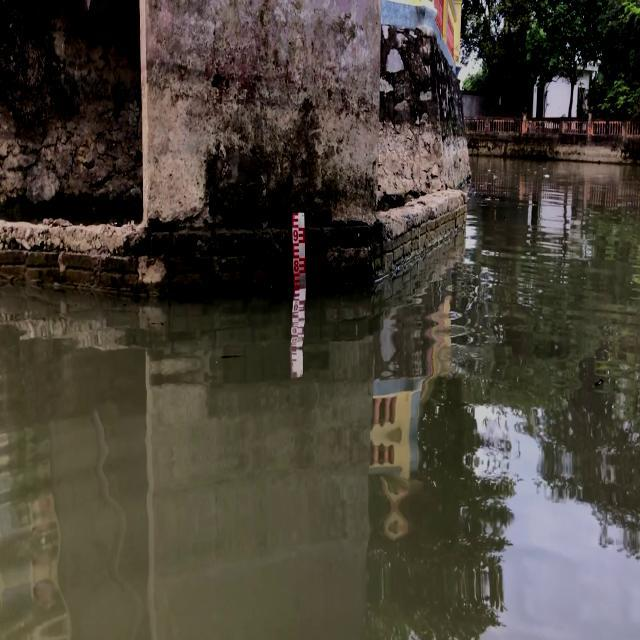ruler: (285, 206, 313, 288)
value: (292, 226, 300, 244), (292, 258, 301, 274)
